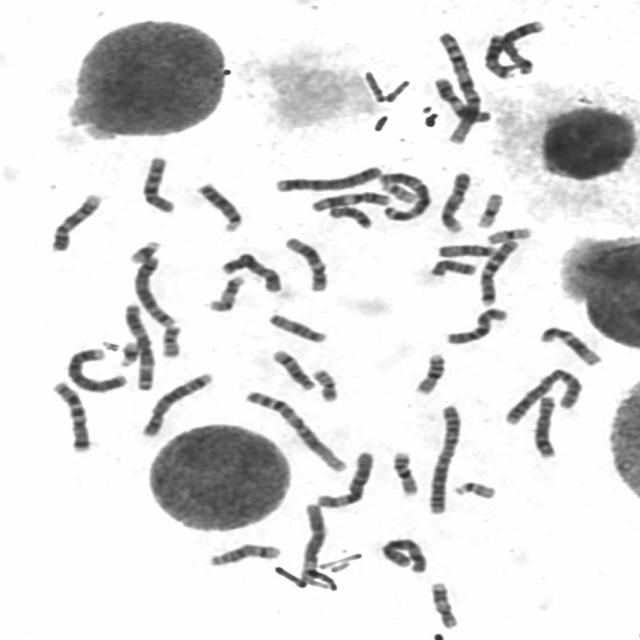A1: (240, 389, 348, 473), (431, 31, 484, 146)
A2: (501, 367, 584, 429), (427, 404, 463, 514)
A3: (124, 303, 157, 391), (380, 170, 433, 222)
B4: (275, 164, 383, 194), (66, 347, 129, 396)
B5: (140, 372, 216, 438), (133, 258, 178, 328)
C10: (445, 307, 510, 346), (138, 155, 179, 214)
C11: (433, 76, 493, 124), (310, 190, 392, 213)
C12: (539, 325, 603, 368), (283, 236, 329, 293)
C6: (315, 451, 375, 508), (299, 503, 325, 584)
C7: (49, 380, 92, 453), (478, 241, 521, 307)
C8: (501, 19, 545, 76), (531, 395, 559, 459)
C9: (49, 192, 103, 252), (439, 170, 474, 236)
D13: (195, 182, 245, 234), (484, 33, 515, 79)
D14: (208, 541, 283, 568), (271, 348, 316, 391)
D15: (266, 313, 328, 344), (436, 244, 500, 259)
E16: (414, 351, 446, 395), (391, 451, 419, 496)
E17: (429, 581, 459, 630), (208, 274, 246, 312)
E18: (325, 205, 372, 229), (426, 259, 476, 279)
F19: (476, 190, 504, 230), (486, 226, 533, 246)
F20: (310, 368, 340, 401), (160, 324, 183, 358)
G21: (128, 240, 161, 265), (118, 342, 138, 368)
G22: (454, 477, 497, 500), (383, 183, 421, 204)
X: (220, 252, 283, 293), (378, 536, 430, 574)
